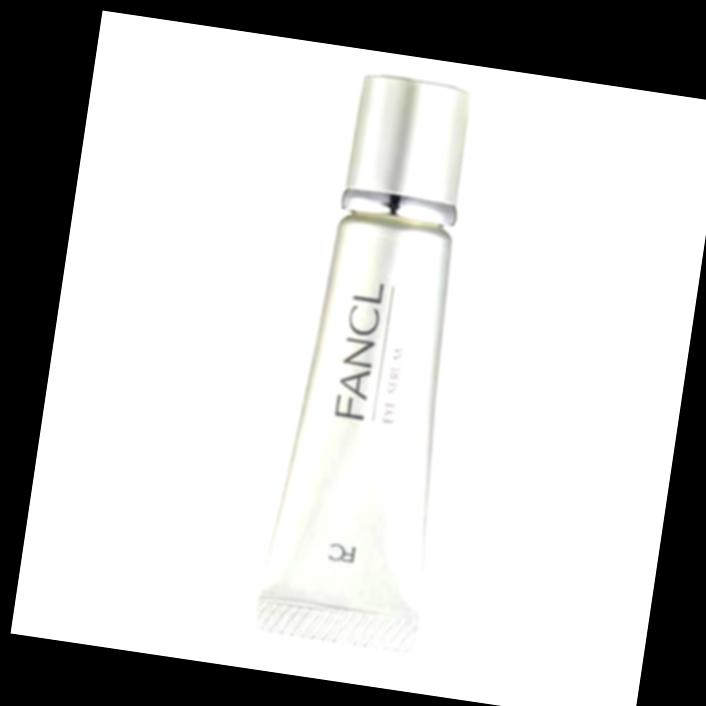cosmetic: (261, 68, 497, 657)
